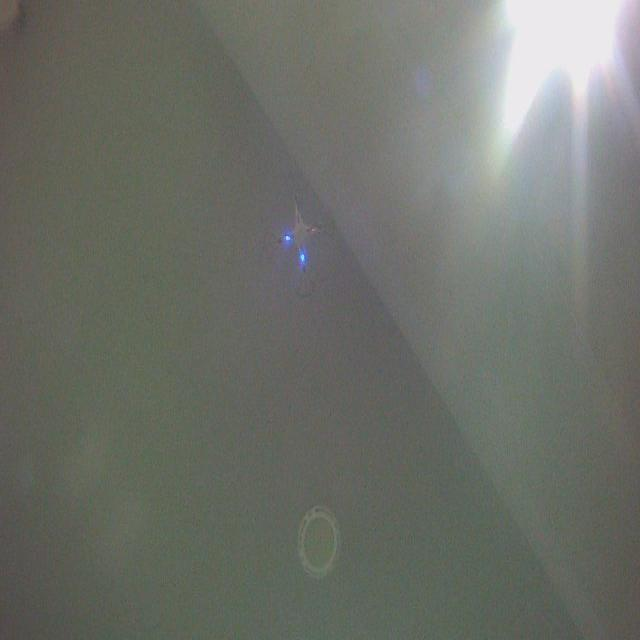drone: (260, 172, 339, 303)
